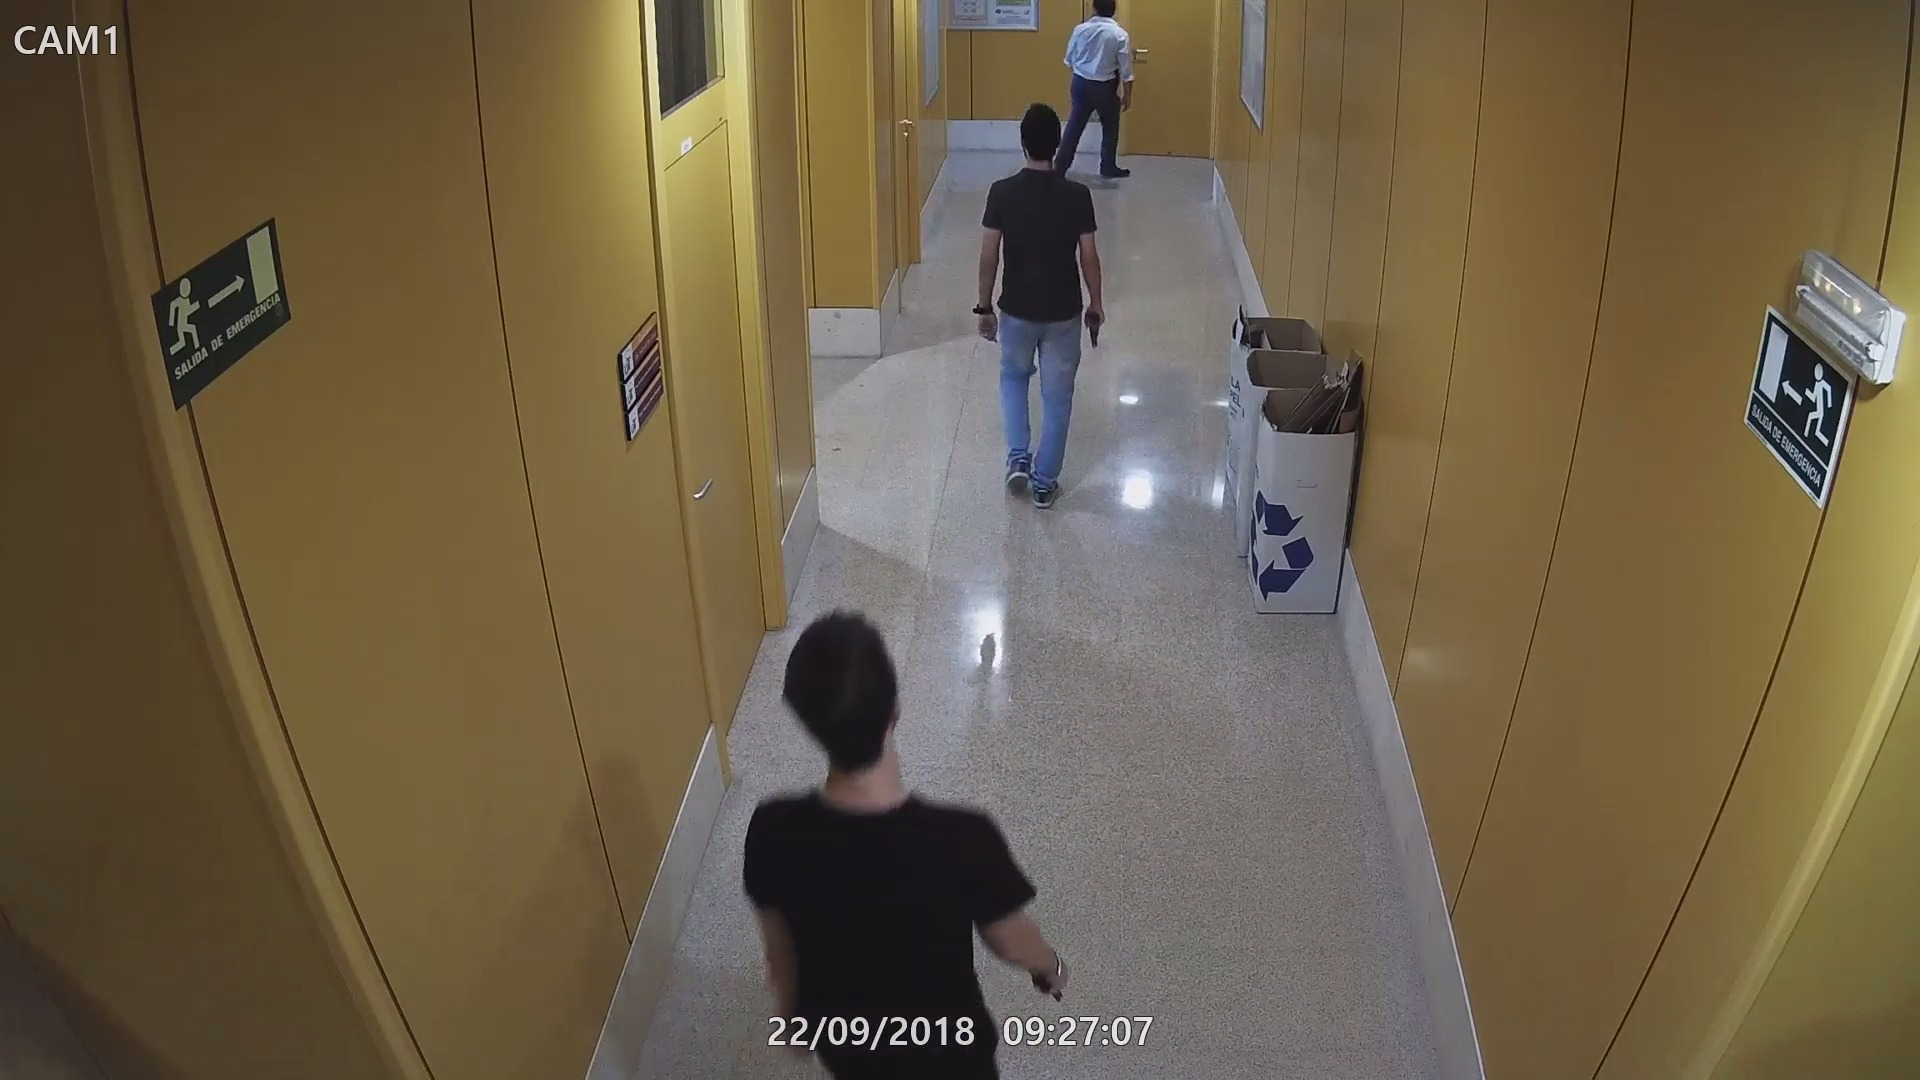Handgun: (1027, 951, 1072, 1004), (1083, 302, 1109, 348)
